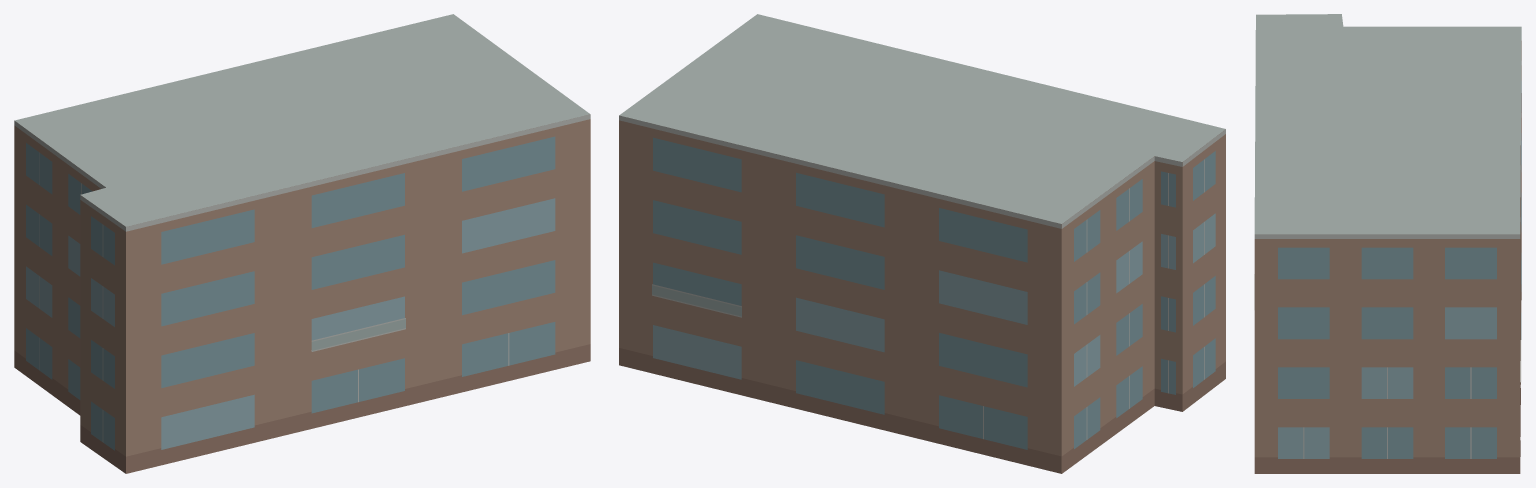
The model's file is survey-upis-32913706.glb.
3 renders of one model, left to right at view 1: azimuth 30°, elevation 25°; view 2: azimuth 150°, elevation 25°; view 3: azimuth 270°, elevation 25°, orthographic. The views are drawn at different scales.
Visible parts, largest first — view 1: survey-upis-32913706.tmp; view 2: survey-upis-32913706.tmp; view 3: survey-upis-32913706.tmp.
Boxes of the visible parts, x1,y1,x2,y2 form: survey-upis-32913706.tmp: (14, 14, 590, 473); survey-upis-32913706.tmp: (619, 14, 1225, 473); survey-upis-32913706.tmp: (1254, 14, 1521, 473).
Size of the model in its own units: 24.46 by 12.4 by 12.54.
